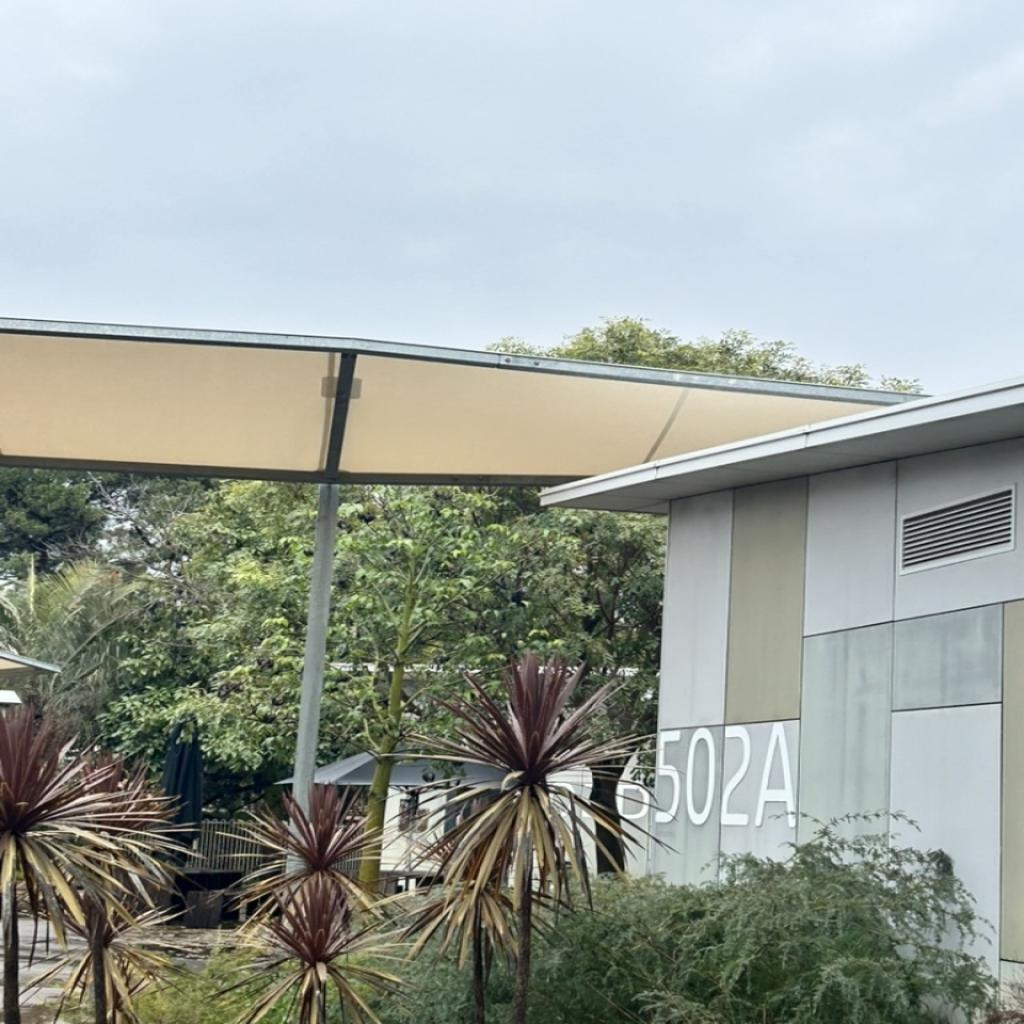BuildingCodes: (652, 717, 802, 831)
